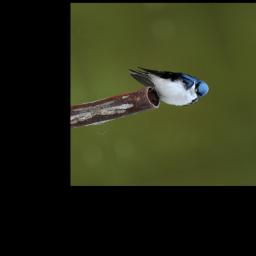Swallow: (127, 52, 213, 116)
